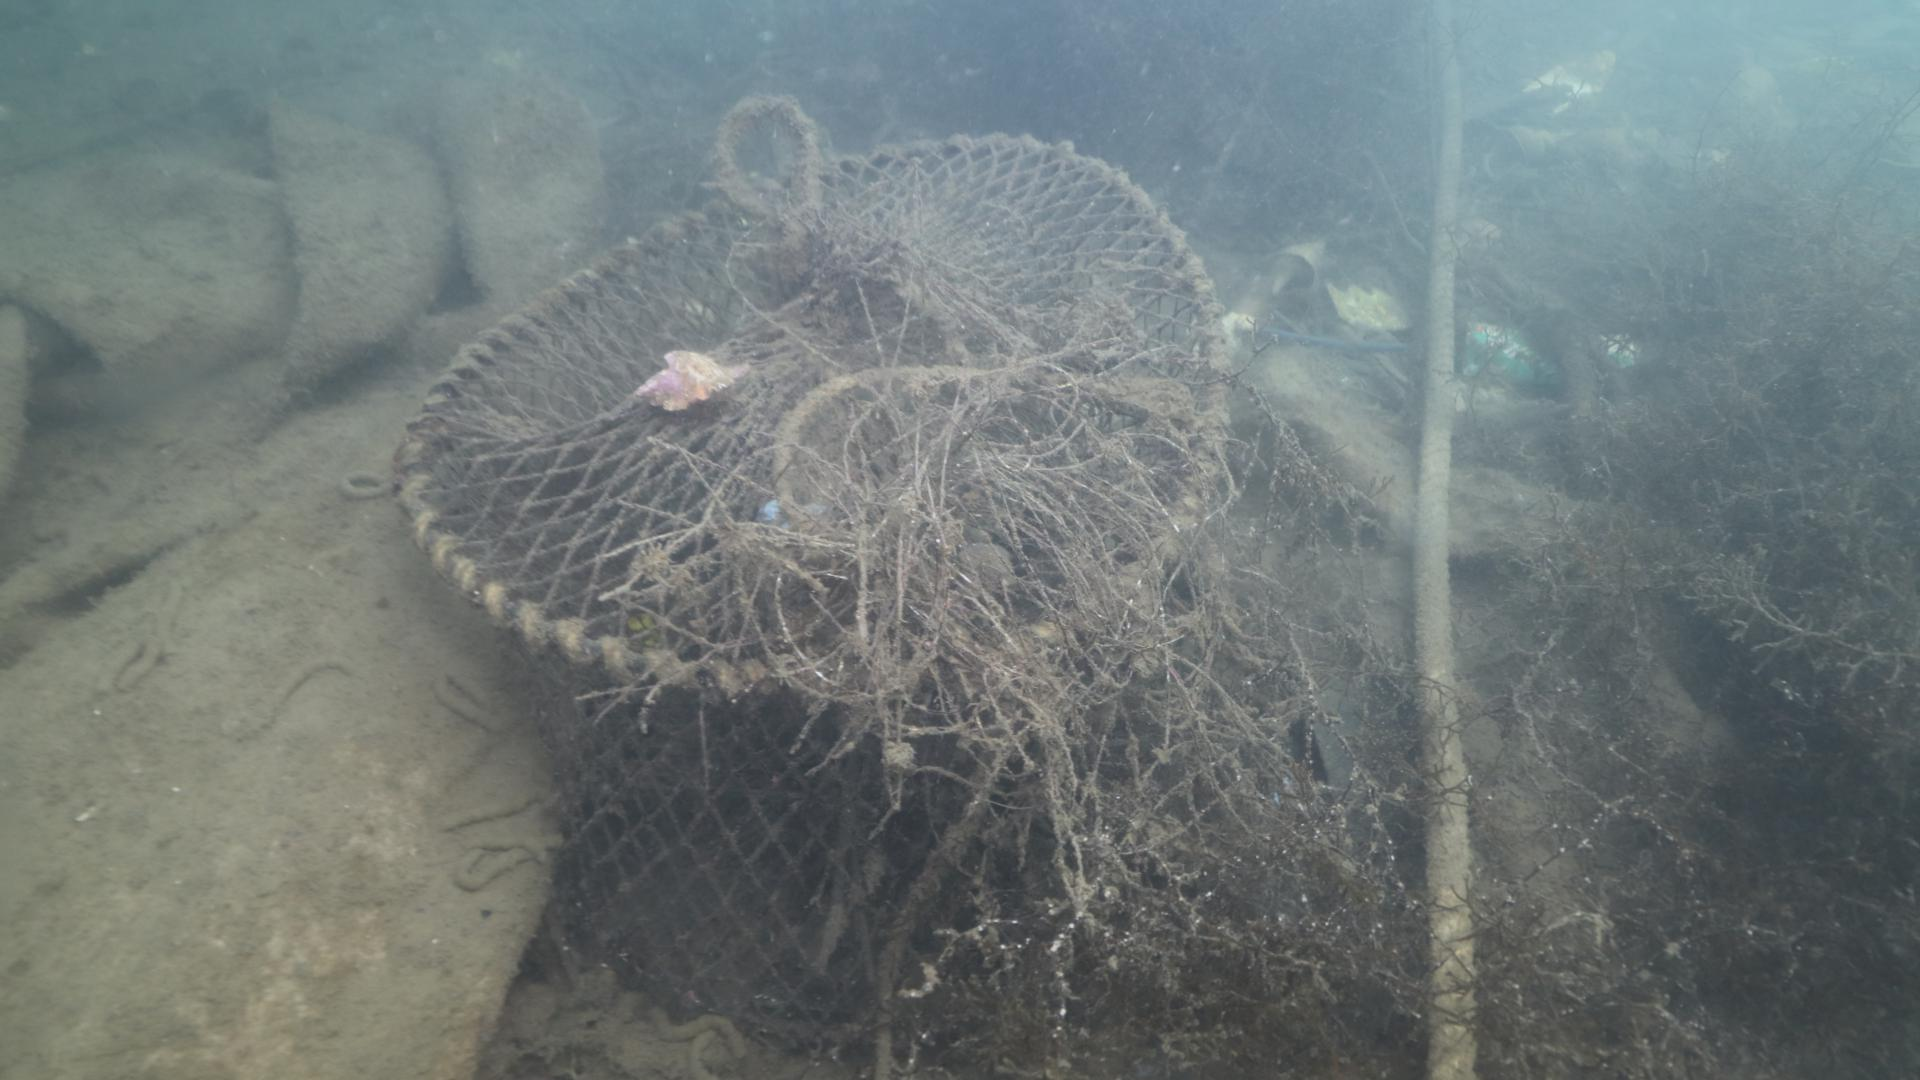circular fish trap: (393, 131, 1237, 1026)
rope: (1408, 0, 1480, 1080)
